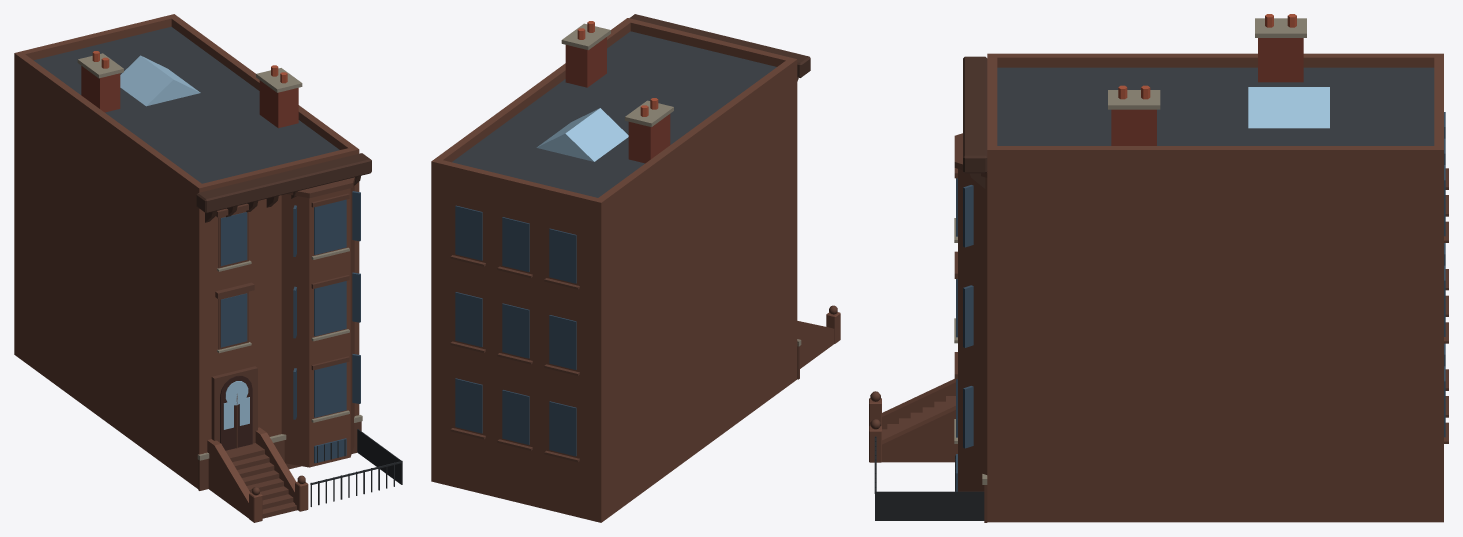
Rendered from brownstone.glb.
3 renders of one model, left to right at view 1: azimuth 30°, elevation 25°; view 2: azimuth 150°, elevation 25°; view 3: azimuth 270°, elevation 25°, orthographic. The views are drawn at different scales.
Parts seen in each view (by area): view 1: brownstone; view 2: brownstone; view 3: brownstone.
Part boxes in pixels (bbox=[...]): brownstone: bbox=[14, 14, 402, 522]; brownstone: bbox=[431, 14, 840, 522]; brownstone: bbox=[869, 14, 1448, 522].
Bounding box in the file's own units: 7.3 × 14.3 × 17.78.
